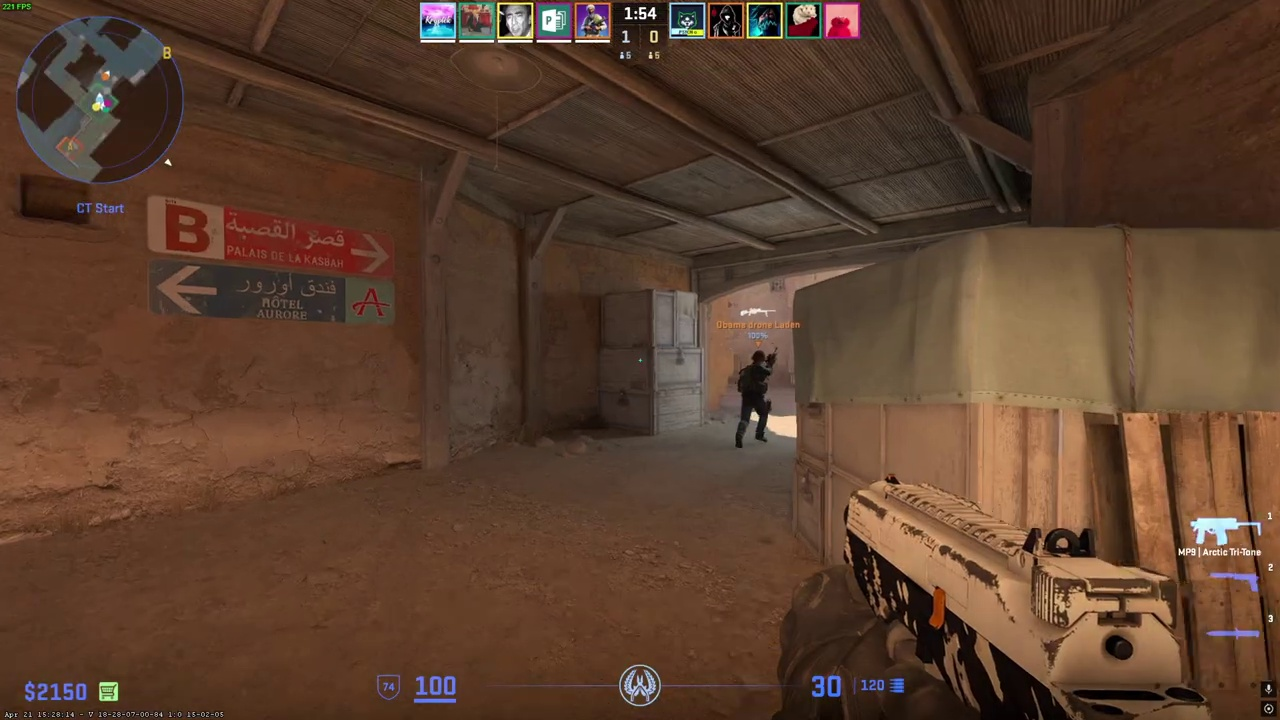CT: (735, 351, 772, 448)
